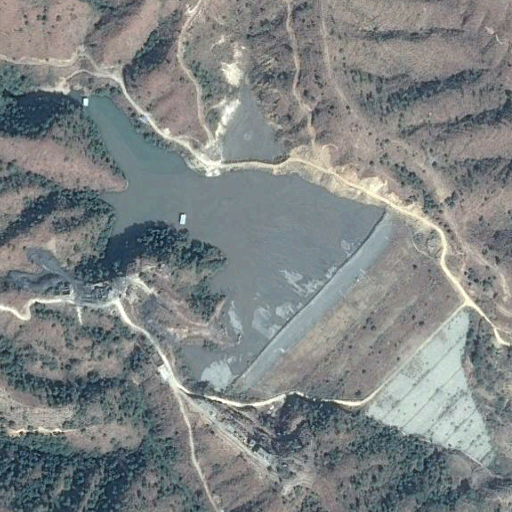tp: (82, 97, 503, 480)
